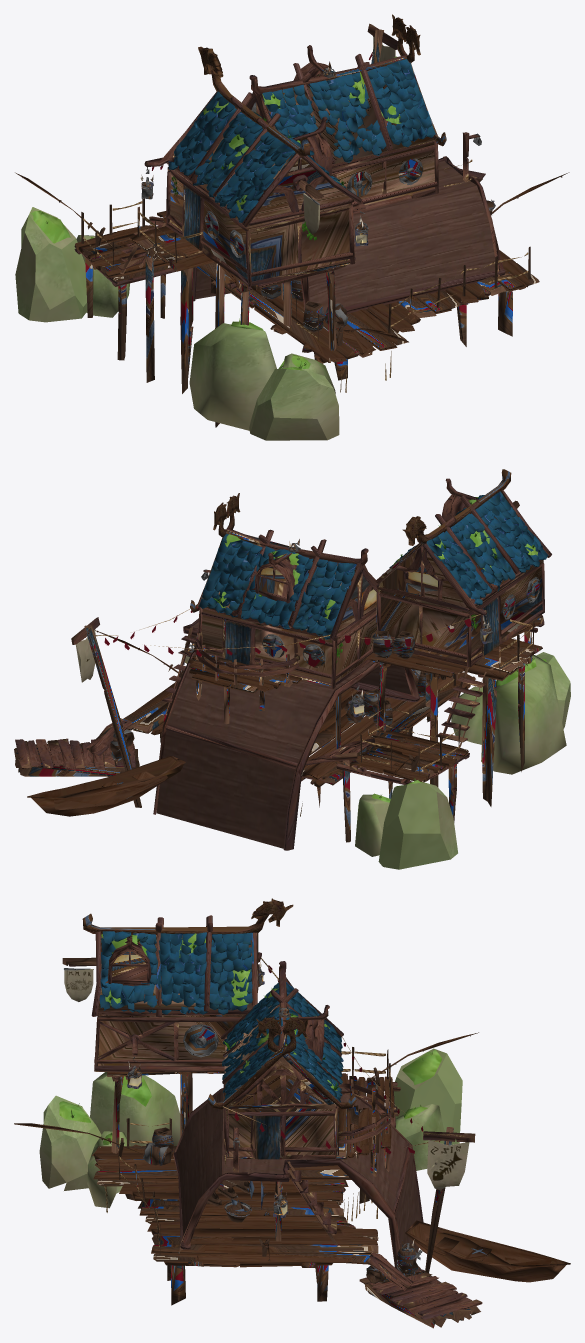
Rendered from viking.glb.
3 renders of one model, top to bottom at view 1: azimuth 30°, elevation 25°; view 2: azimuth 150°, elevation 25°; view 3: azimuth 270°, elevation 25°, orthographic. The views are drawn at different scales.
Visible parts, largest first — view 1: pCylinder55_TEXTURE_0, polySurface5508_envi_texture_0; view 2: pCylinder55_TEXTURE_0, polySurface5508_envi_texture_0; view 3: pCylinder55_TEXTURE_0, polySurface5508_envi_texture_0.
Boxes of the visible parts, box(x1,y1,x2,y2) form: pCylinder55_TEXTURE_0: box(15, 14, 569, 427); polySurface5508_envi_texture_0: box(15, 36, 495, 440); pCylinder55_TEXTURE_0: box(14, 469, 551, 850); polySurface5508_envi_texture_0: box(76, 497, 570, 869); pCylinder55_TEXTURE_0: box(14, 898, 570, 1328); polySurface5508_envi_texture_0: box(39, 933, 469, 1261).
Bounding box in the file's own units: 18.94 × 12.81 × 20.39.
4 materials, 2 textured.
